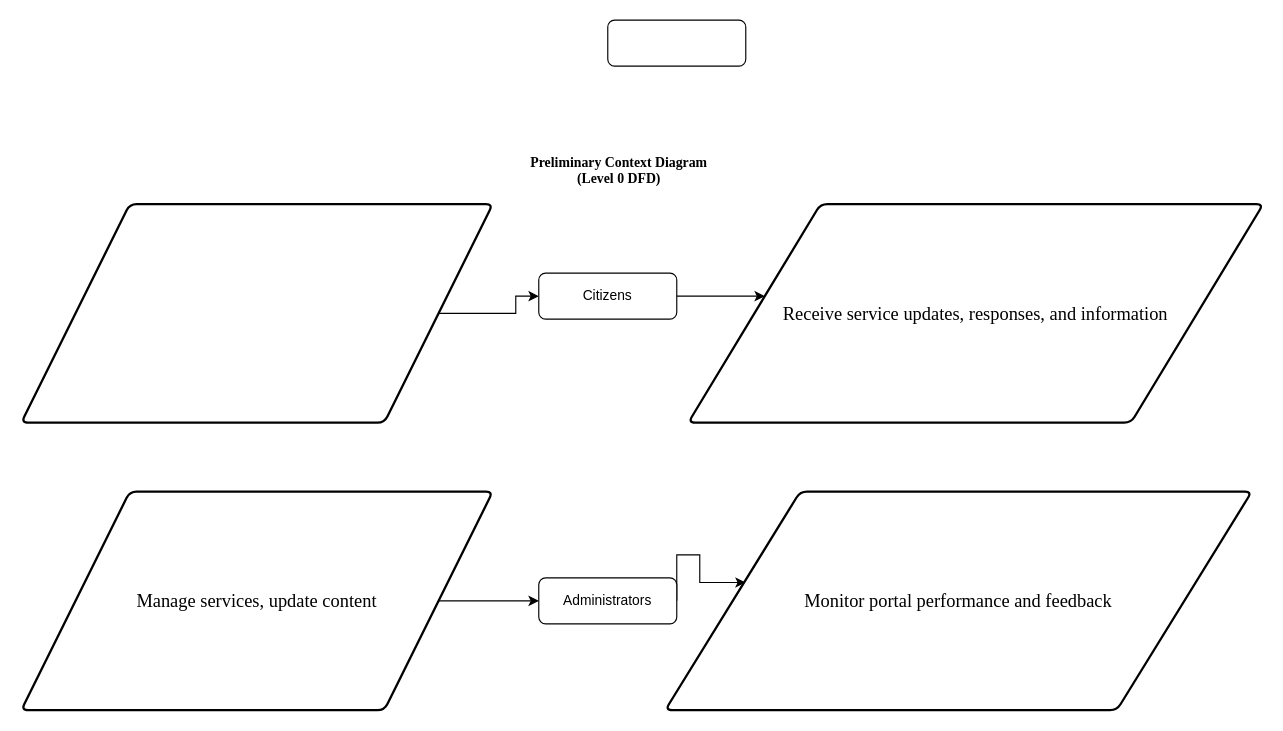
The diagram is 1283 pixels wide and 731 high, and some of its shapes have lost their labels. The shapes that lost their labels are listed below. From the top down, each one's centre as x and y in pixels, then its label:
At (x=676, y=42): "Support staff".
At (x=256, y=312): "Submit service requests, feedback, and queries".
